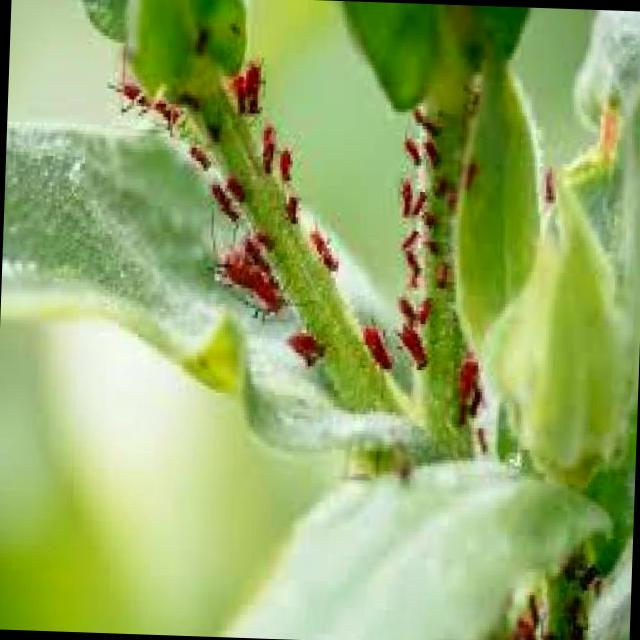aphid: (198, 236, 300, 322), (101, 58, 150, 123), (302, 210, 344, 282), (386, 315, 432, 380), (354, 312, 398, 378), (447, 341, 486, 412), (229, 227, 278, 279), (275, 322, 328, 364), (386, 168, 424, 225), (236, 50, 268, 117), (516, 581, 550, 635), (552, 540, 586, 594), (532, 156, 564, 213), (218, 162, 256, 208), (423, 248, 457, 298), (162, 80, 205, 118), (178, 134, 214, 178), (393, 125, 425, 172), (388, 290, 421, 334), (222, 66, 251, 116), (278, 183, 306, 234), (269, 136, 298, 184), (454, 150, 481, 197), (185, 14, 213, 58), (394, 240, 422, 284), (393, 217, 424, 254), (408, 286, 433, 324)
